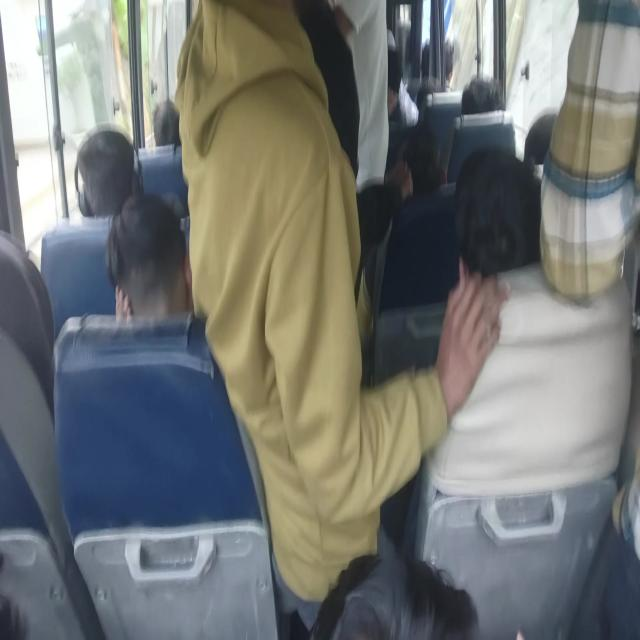person: (402, 0, 640, 524), (180, 13, 334, 353), (298, 532, 603, 640), (114, 190, 253, 379), (268, 0, 364, 205), (322, 0, 419, 185), (455, 177, 552, 295), (73, 130, 157, 246), (0, 242, 49, 415), (152, 79, 196, 157), (411, 136, 453, 209), (469, 62, 506, 124), (527, 123, 567, 168)
